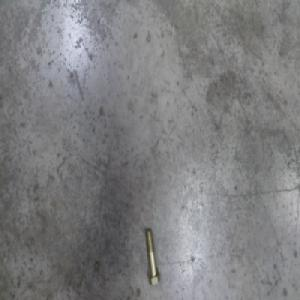Bolt: (143, 228, 161, 285)
